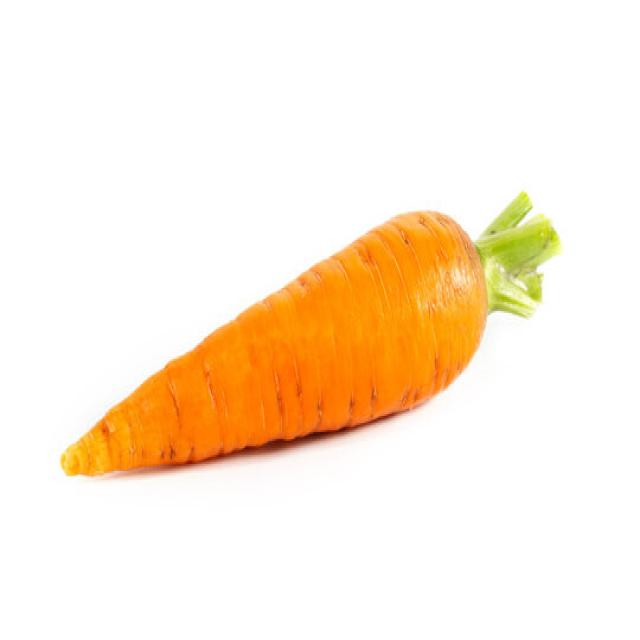Carrot: (59, 188, 561, 478)
